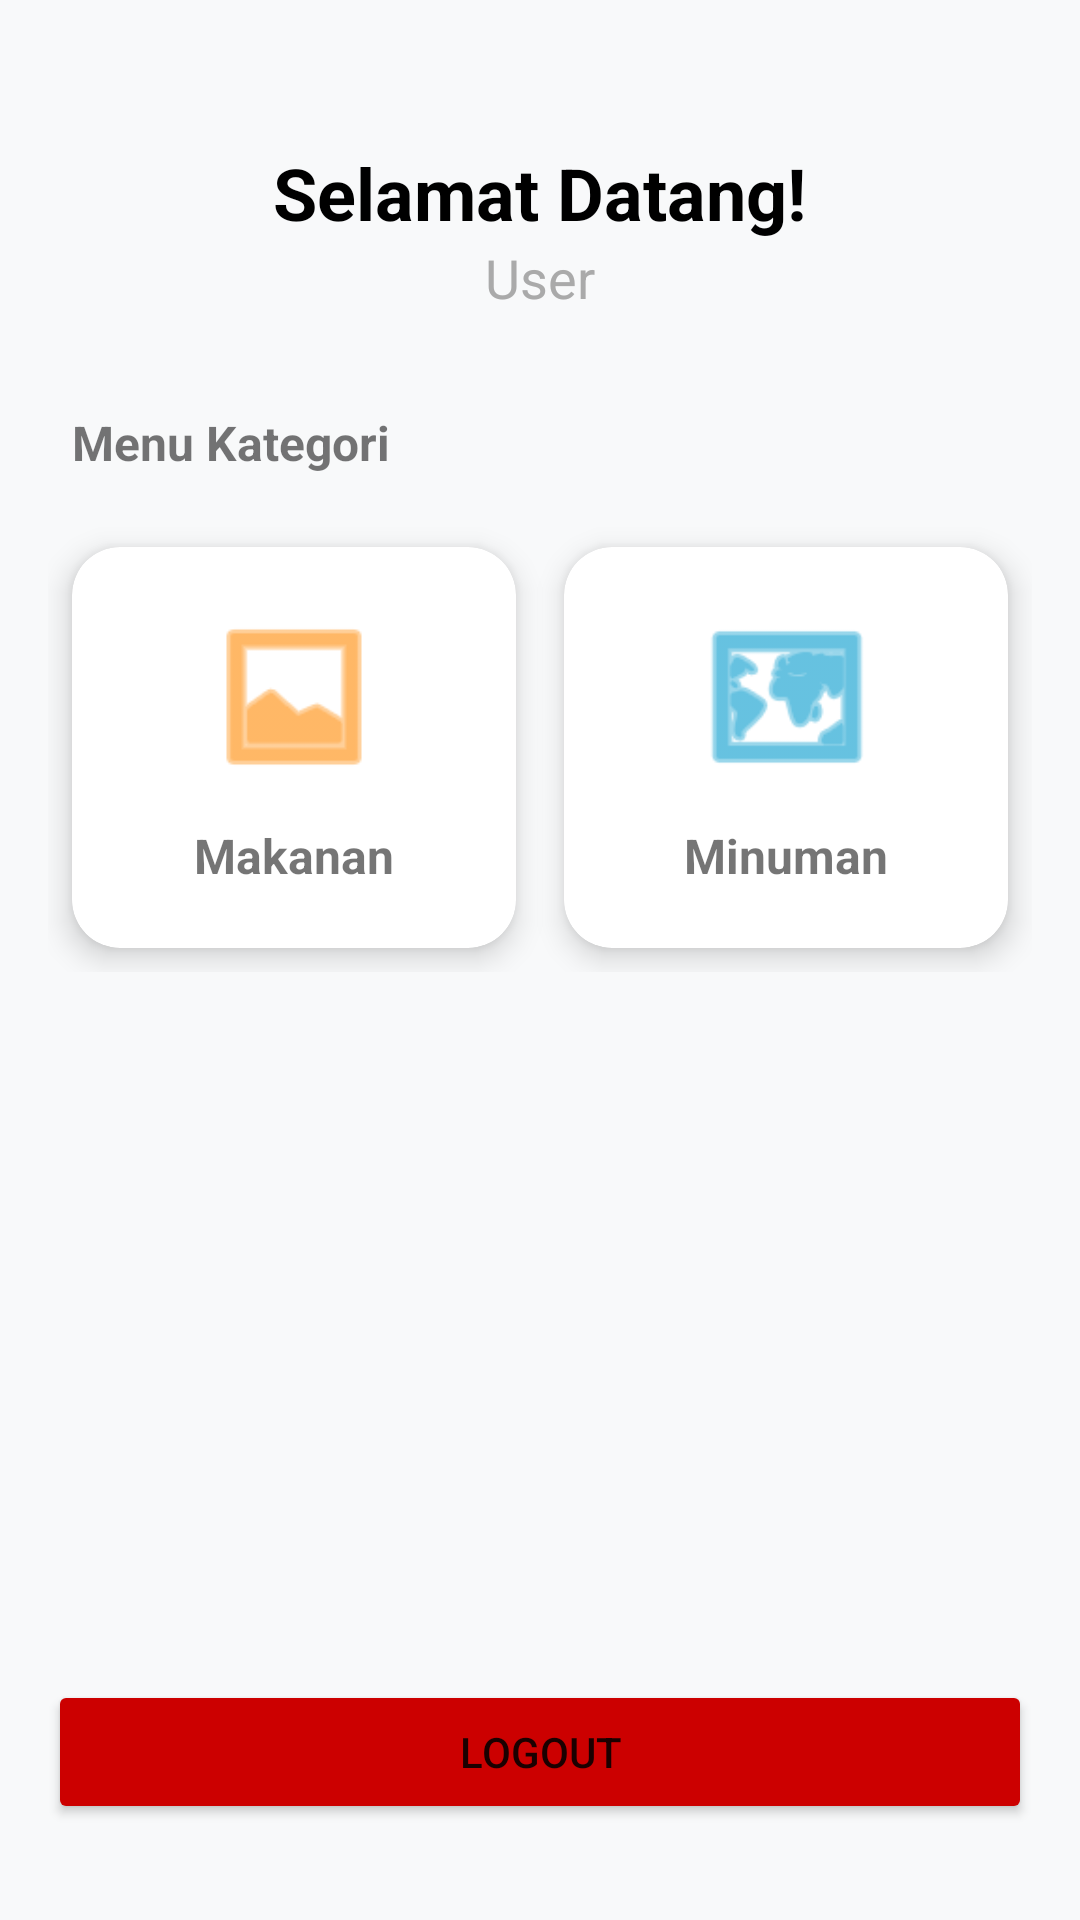

Icons on this 1080w x 1920h Android screen, each with its box as BBox(x1, y1, x2, y2):
gallery: BBox(226, 629, 362, 765)
mapmode: BBox(712, 631, 862, 763)
